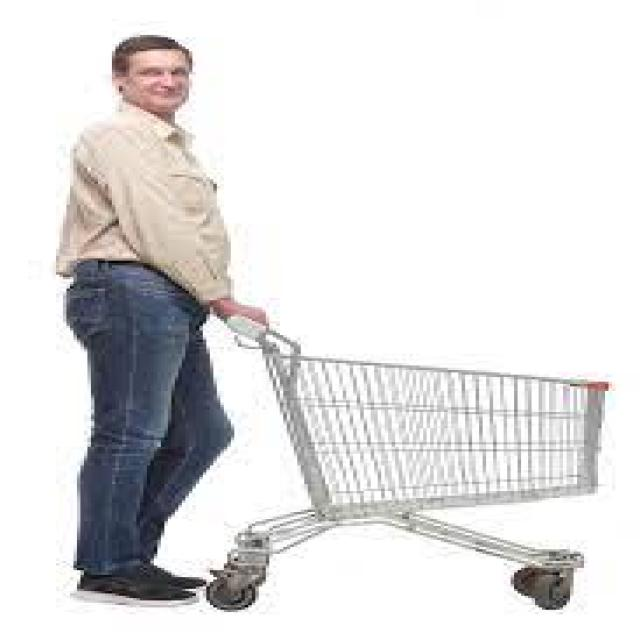Person: (59, 32, 270, 610)
